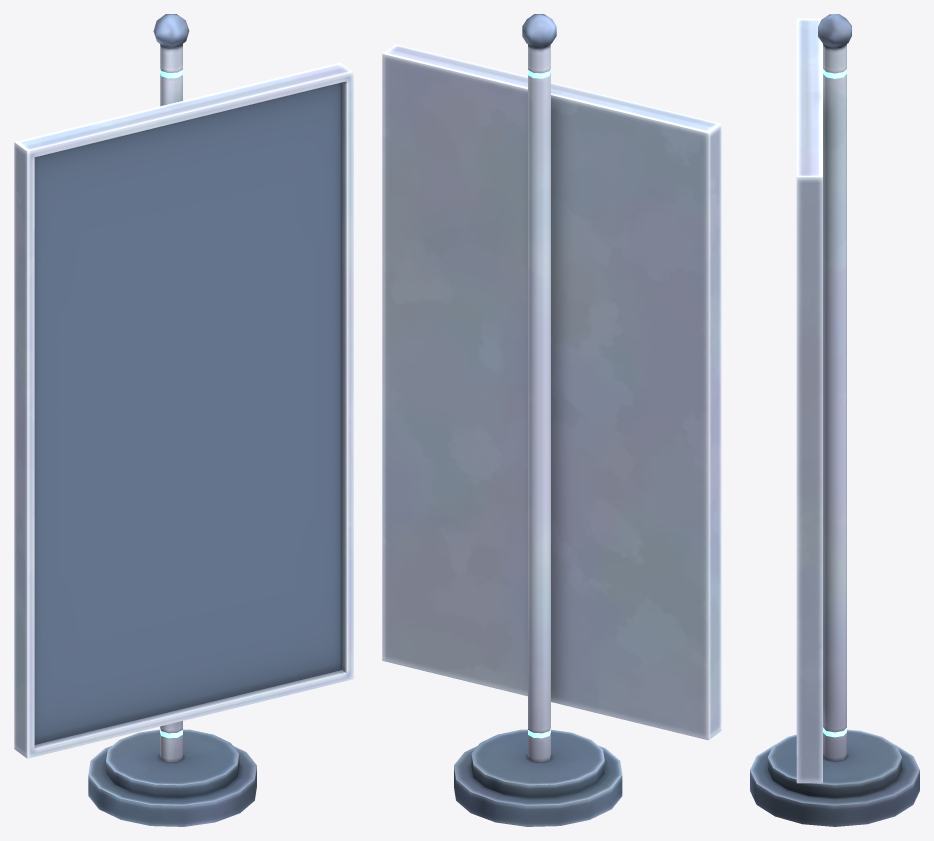
Rendered from obj_banner05.gltf.
3 views of the same model, side by side, from view 1: azimuth 30°, elevation 25°; view 2: azimuth 150°, elevation 25°; view 3: azimuth 270°, elevation 25° (orthographic).
Visible parts, largest first — view 1: obj_banner05; view 2: obj_banner05; view 3: obj_banner05.
Part boxes in pixels (box(x1,y1,x2,y2)): obj_banner05: box(14, 14, 353, 826); obj_banner05: box(382, 14, 721, 826); obj_banner05: box(750, 14, 919, 826).
Size of what is drawn, in the model's own units: 1.36 by 3.1 by 0.6145.
Materials: 2 (1 with a texture image).
